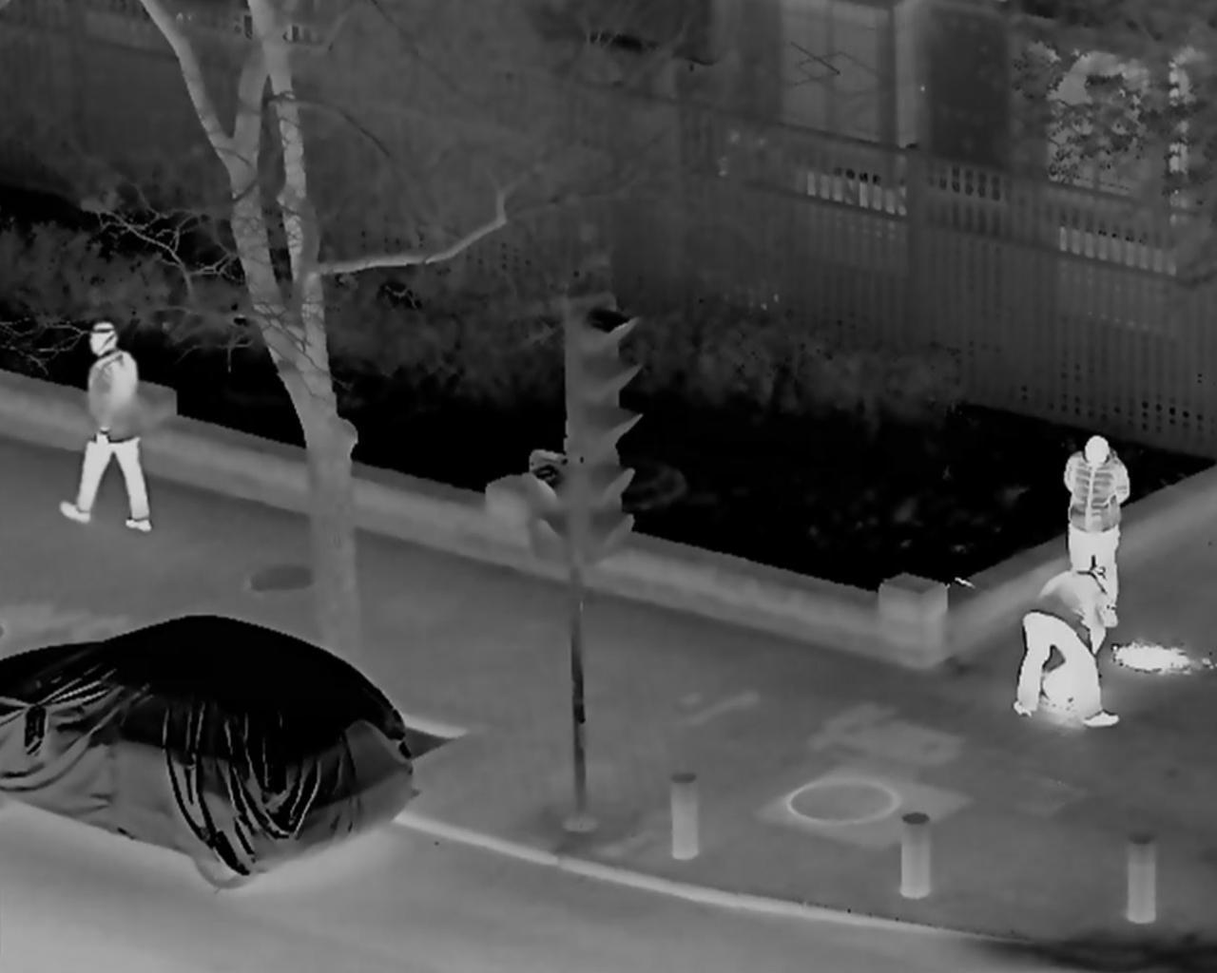person: (53, 320, 156, 538), (1010, 563, 1119, 726), (1055, 429, 1132, 634)
